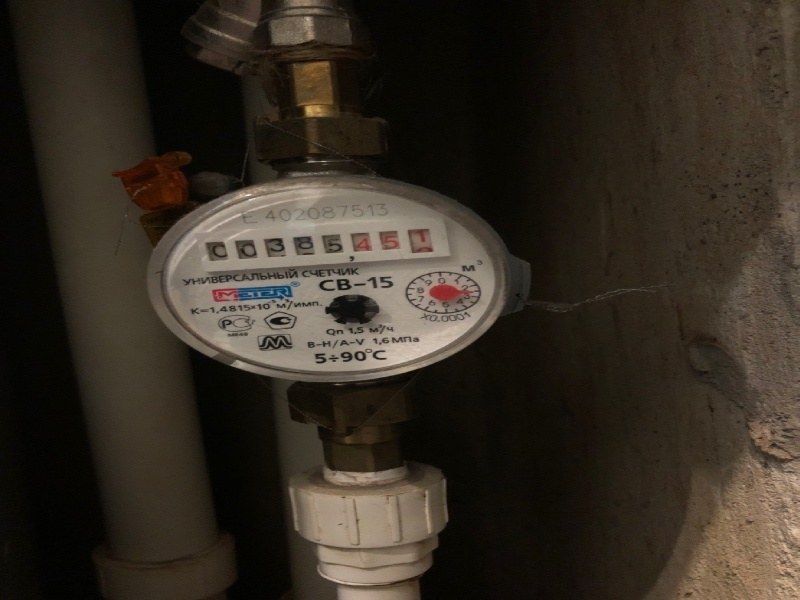dial: (205, 229, 433, 258)
